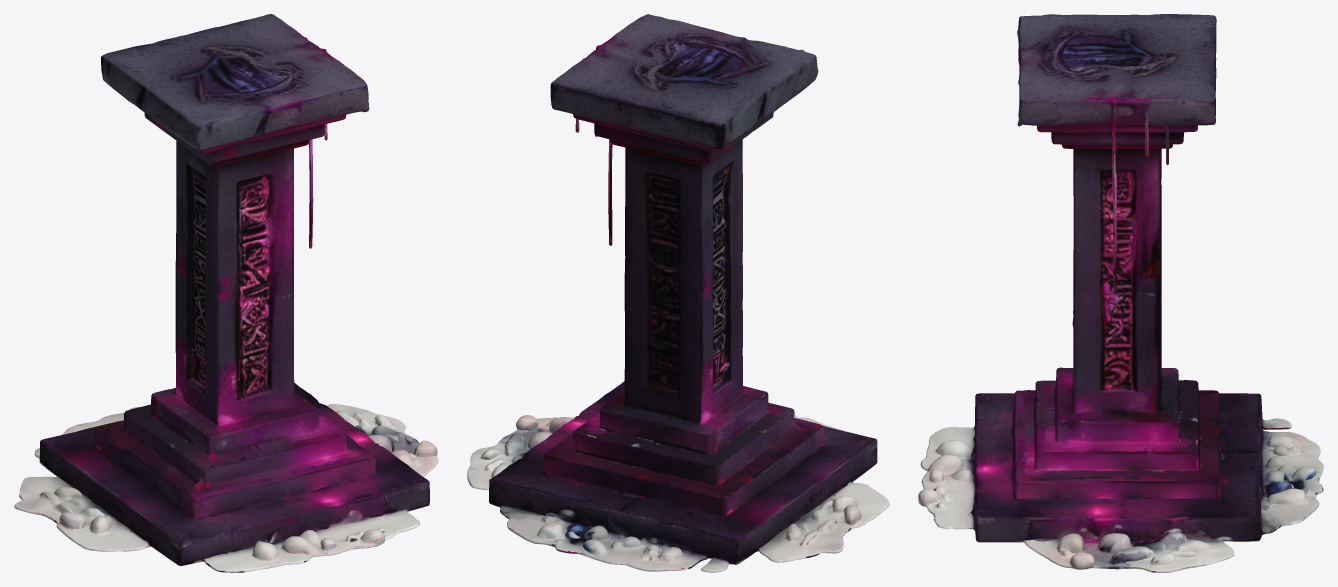
File: support-column-generated-2026-05-17T18-48-00-875Z.medium.glb
3 views of the same model, side by side, from view 1: azimuth 30°, elevation 25°; view 2: azimuth 150°, elevation 25°; view 3: azimuth 270°, elevation 25° (orthographic).
Visible parts, largest first — view 1: temp_mesh.ply; view 2: temp_mesh.ply; view 3: temp_mesh.ply.
Boxes of the visible parts, <box> form: temp_mesh.ply: <box>14,14,438,572</box>; temp_mesh.ply: <box>467,14,889,572</box>; temp_mesh.ply: <box>918,14,1323,572</box>.
Bounding box in the file's own units: 1.86 × 1.97 × 1.71.
Materials: 1 (1 with a texture image).
